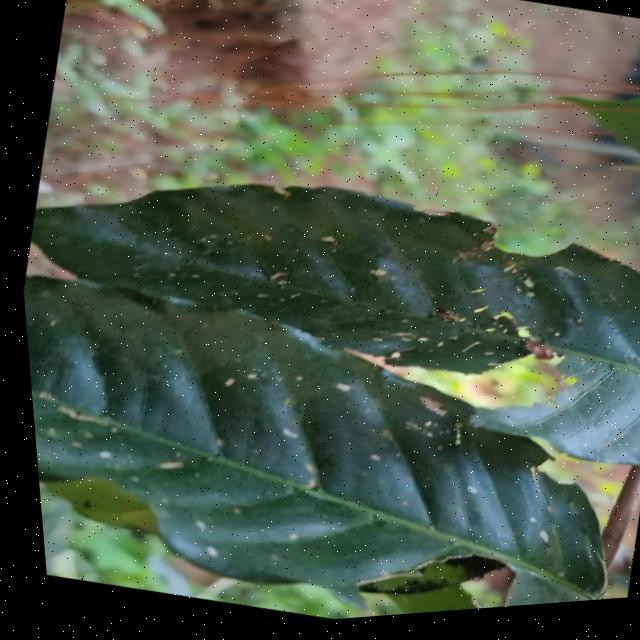leaves: (0, 277, 639, 639), (15, 111, 640, 472)
